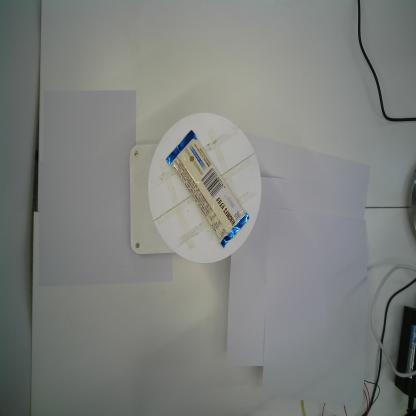Chocolate: (166, 129, 249, 249)
